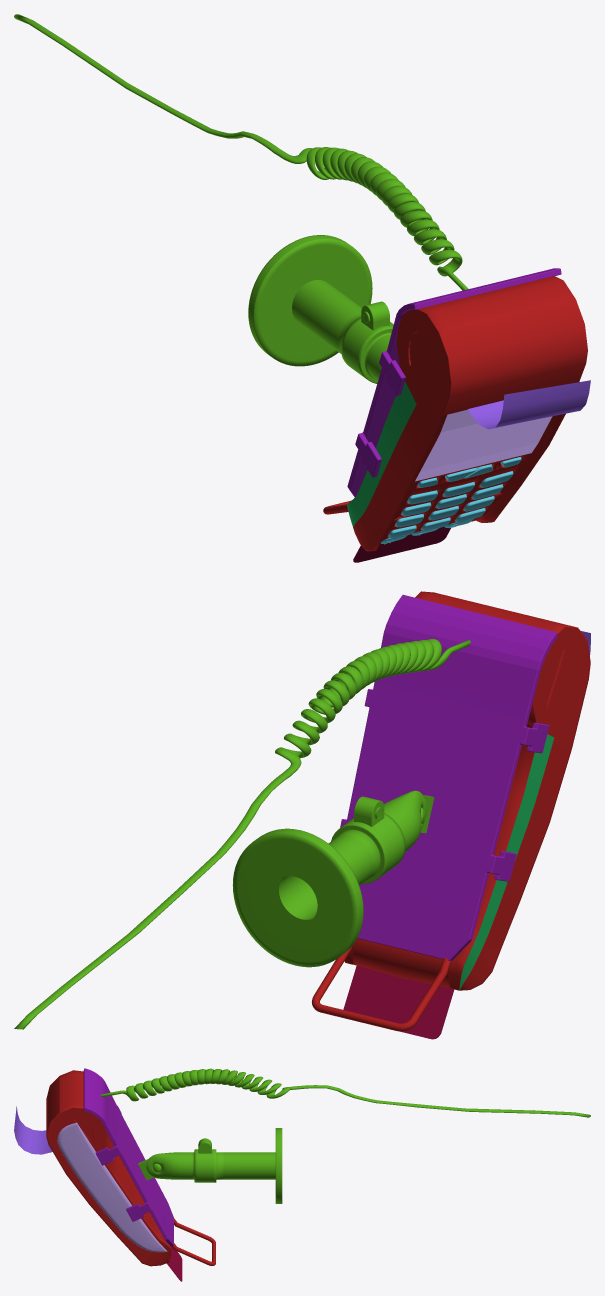
File: ingenico ict250.obj
3 renders of one model, top to bottom at view 1: azimuth 30°, elevation 25°; view 2: azimuth 150°, elevation 25°; view 3: azimuth 270°, elevation 25°, orthographic. The views are drawn at different scales.
Parts seen in each view (by area): view 1: Box001, Box004, Object006, Object002, Object004, Box002, Plane001, Box005, Box003; view 2: Object004, Box004, Box001, Object006, Box003, Box005, Rectangle001; view 3: Box001, Box004, Object004, Object003, Object006, Plane001, Rectangle001, Box003.
Boxes of the visible parts, <box> form: Box001: <box>347,276,587,551</box>; Box004: <box>248,235,393,383</box>; Object006: <box>14,14,468,290</box>; Object002: <box>415,409,552,481</box>; Object004: <box>347,268,561,497</box>; Box002: <box>381,457,521,544</box>; Plane001: <box>468,380,590,429</box>; Box005: <box>347,381,416,528</box>; Box003: <box>353,526,450,562</box>; Object004: <box>340,594,557,960</box>; Box004: <box>232,790,434,967</box>; Box001: <box>344,591,590,990</box>; Object006: <box>14,638,470,1029</box>; Box003: <box>343,966,454,1039</box>; Box005: <box>459,734,554,989</box>; Rectangle001: <box>312,945,450,1031</box>; Box001: <box>46,1070,171,1266</box>; Box004: <box>138,1128,282,1203</box>; Object004: <box>83,1068,173,1246</box>; Object003: <box>57,1122,167,1252</box>; Object006: <box>100,1068,590,1117</box>; Plane001: <box>14,1106,52,1154</box>; Rectangle001: <box>172,1217,215,1265</box>; Box003: <box>167,1246,182,1281</box>.
Size of the model in its own units: 90.69 by 207 by 533.
